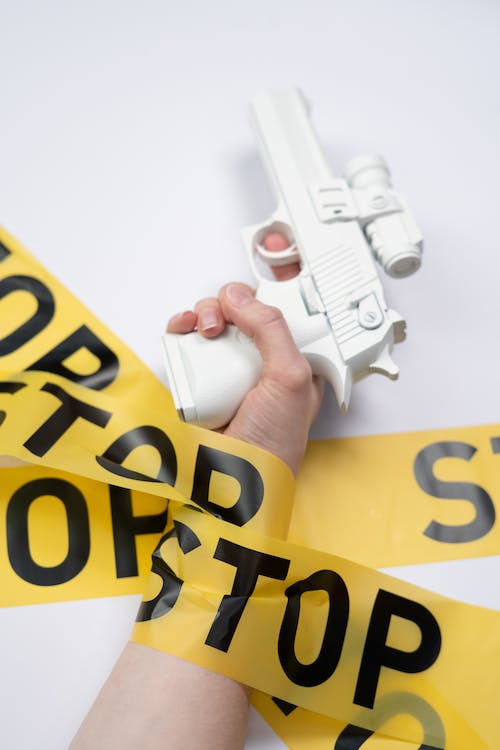gun: (156, 77, 427, 433)
